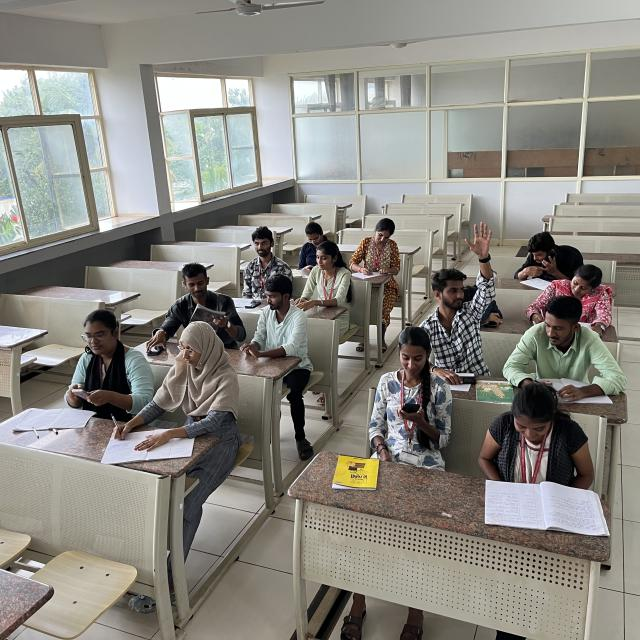Hand Rising: (423, 220, 501, 366)
Reading: (482, 382, 590, 518), (167, 260, 242, 333)
Using Phone: (64, 308, 147, 407), (371, 324, 448, 430), (516, 232, 585, 278), (291, 222, 335, 274)
Writing: (111, 327, 224, 444), (526, 266, 614, 330), (349, 216, 407, 278)
